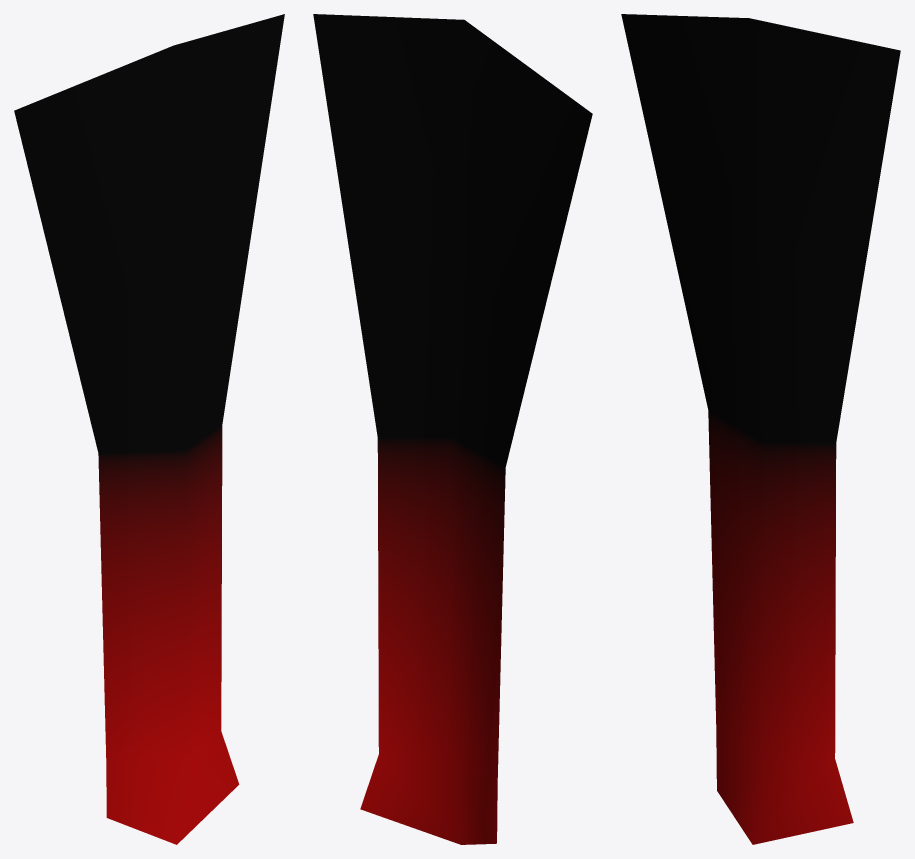
Rendered from Tree_Foreg_Mesh.fbx.
3 views of the same model, side by side, from view 1: azimuth 30°, elevation 25°; view 2: azimuth 150°, elevation 25°; view 3: azimuth 330°, elevation 25° (orthographic). The views are drawn at different scales.
Visible parts, largest first — view 1: Tree_03_S; view 2: Tree_03_S; view 3: Tree_03_S.
Part boxes in pixels (left/top/right/bottom): Tree_03_S: left=14, top=14, right=284, bottom=844; Tree_03_S: left=313, top=14, right=592, bottom=844; Tree_03_S: left=621, top=14, right=900, bottom=844.
Bounding box in the file's own units: 260 × 734 × 29.4.
